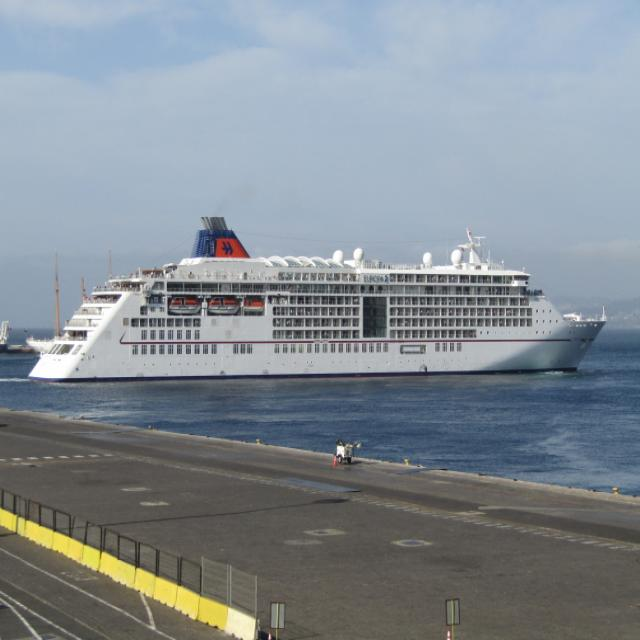cruises: (20, 212, 614, 388)
